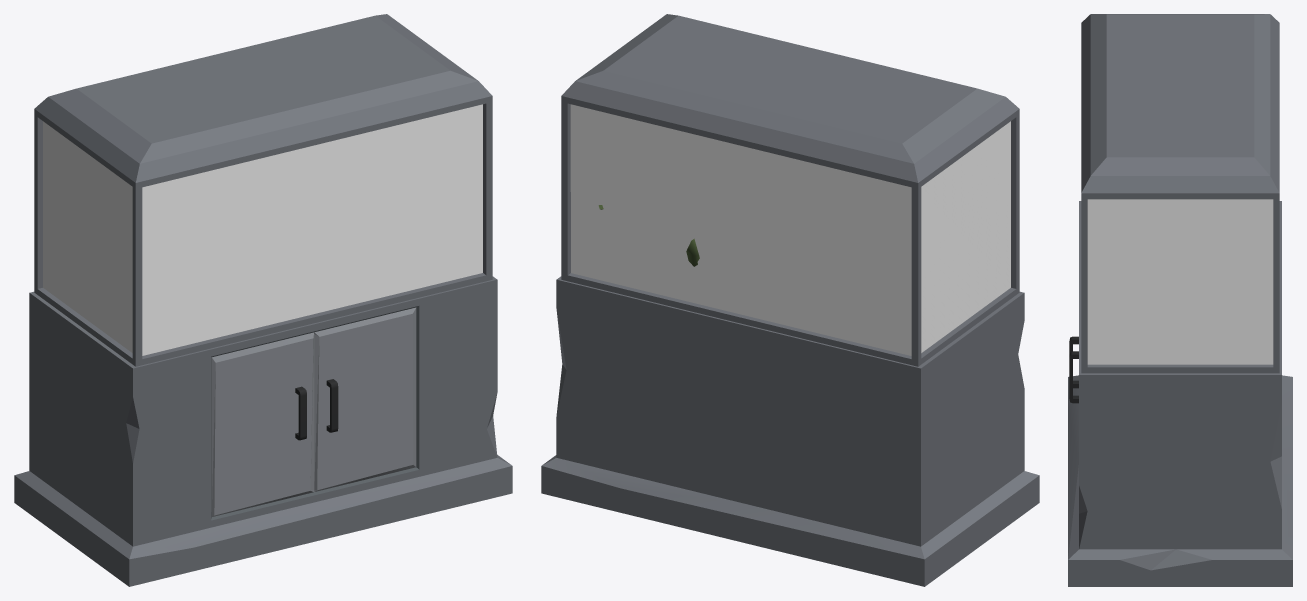
The model's file is SM_Prop_Fishtank_01.obj.
3 views of the same model, side by side, from view 1: azimuth 30°, elevation 25°; view 2: azimuth 150°, elevation 25°; view 3: azimuth 270°, elevation 25° (orthographic). The views are drawn at different scales.
Visible parts, largest first — view 1: SM_Prop_Fishtank_01_Mat_SwatchOverlay_PolygonTown_01_Inst, SM_Prop_Fishtank_01_Mat_Water; view 2: SM_Prop_Fishtank_01_Mat_SwatchOverlay_PolygonTown_01_Inst, SM_Prop_Fishtank_01_Mat_Water; view 3: SM_Prop_Fishtank_01_Mat_SwatchOverlay_PolygonTown_01_Inst, SM_Prop_Fishtank_01_Mat_Water.
Boxes of the visible parts, x1,y1,x2,y2 form: SM_Prop_Fishtank_01_Mat_SwatchOverlay_PolygonTown_01_Inst: [14, 14, 512, 586]; SM_Prop_Fishtank_01_Mat_Water: [43, 104, 482, 355]; SM_Prop_Fishtank_01_Mat_SwatchOverlay_PolygonTown_01_Inst: [541, 14, 1039, 586]; SM_Prop_Fishtank_01_Mat_Water: [570, 104, 1010, 355]; SM_Prop_Fishtank_01_Mat_SwatchOverlay_PolygonTown_01_Inst: [1068, 14, 1292, 586]; SM_Prop_Fishtank_01_Mat_Water: [1087, 199, 1273, 364].
Size of the model in its own units: 1.29 by 1.34 by 0.6674.
Materials: 2 (1 with a texture image).
